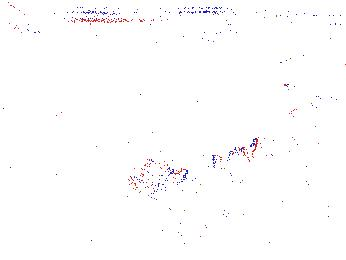flame jellyfish: (196, 137, 259, 227), (124, 157, 192, 236)
